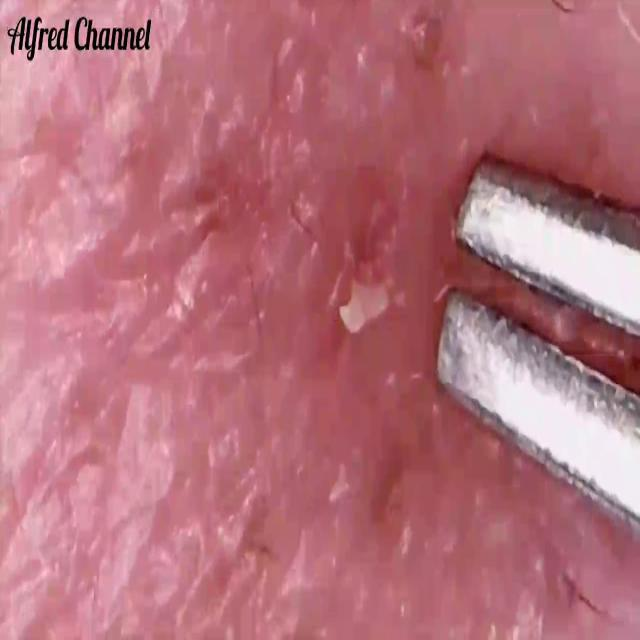Acne: (309, 173, 587, 640)
